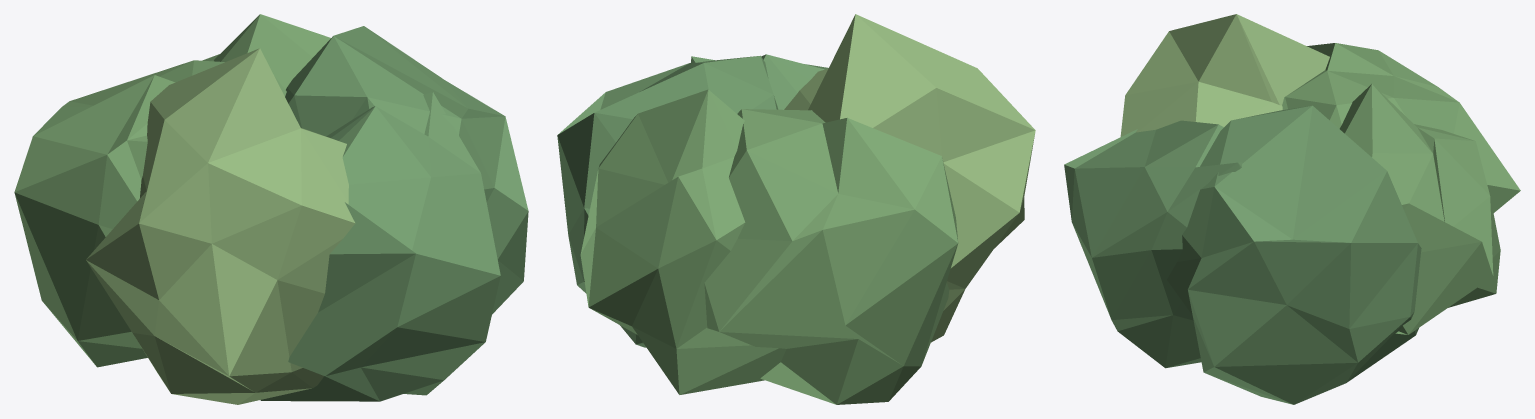
The model's file is nature_bush_03.glb.
3 renders of one model, left to right at view 1: azimuth 30°, elevation 25°; view 2: azimuth 150°, elevation 25°; view 3: azimuth 270°, elevation 25°, orthographic. The views are drawn at different scales.
Parts seen in each view (by area): view 1: geometry_0; view 2: geometry_0; view 3: geometry_0.
Part boxes in pixels (x1,y1,x2,y2): geometry_0: [14, 14, 528, 404]; geometry_0: [557, 14, 1035, 404]; geometry_0: [1064, 14, 1520, 404].
Size of the model in its own units: 2.24 by 1.83 by 2.36.
